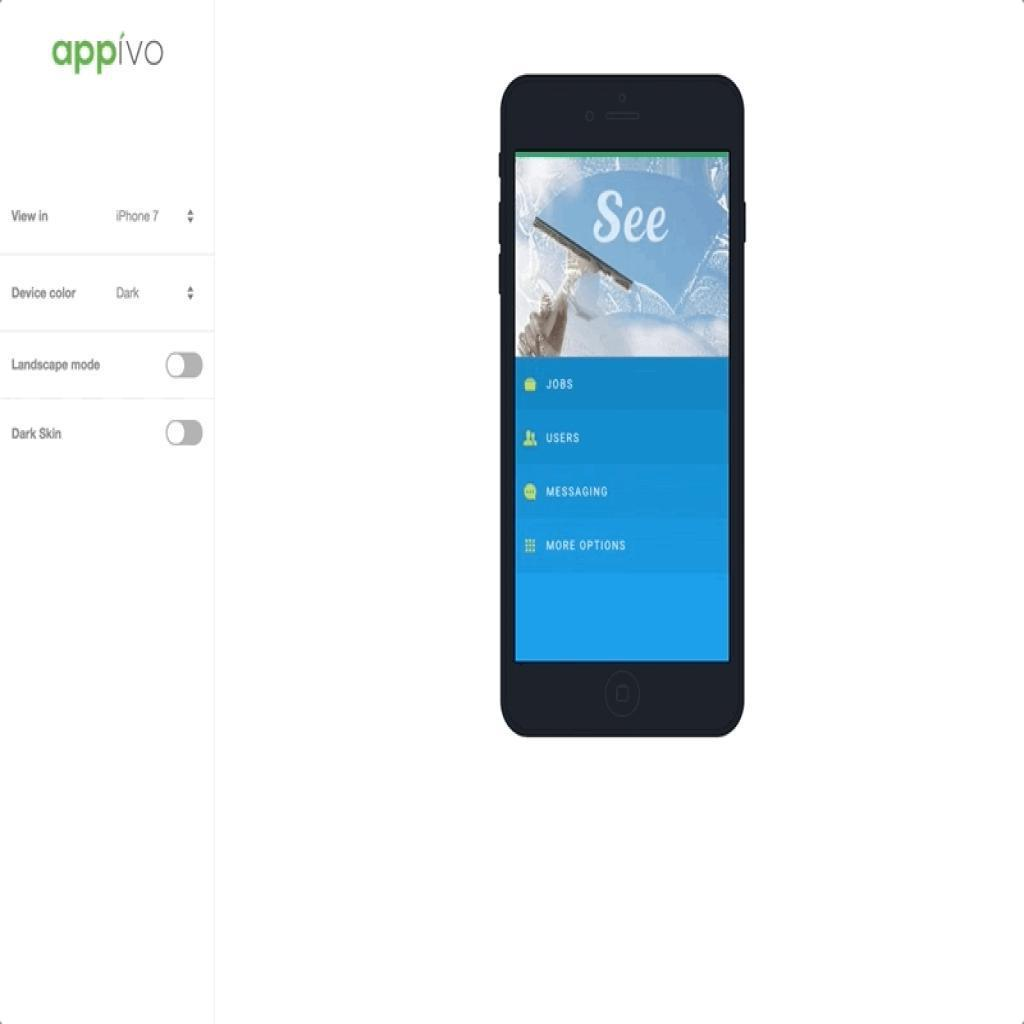icon: (522, 482, 542, 506), (522, 536, 540, 558), (524, 428, 540, 450), (524, 376, 541, 396), (186, 286, 198, 305), (187, 207, 197, 227)
switch: (166, 352, 208, 383), (166, 421, 206, 453)
